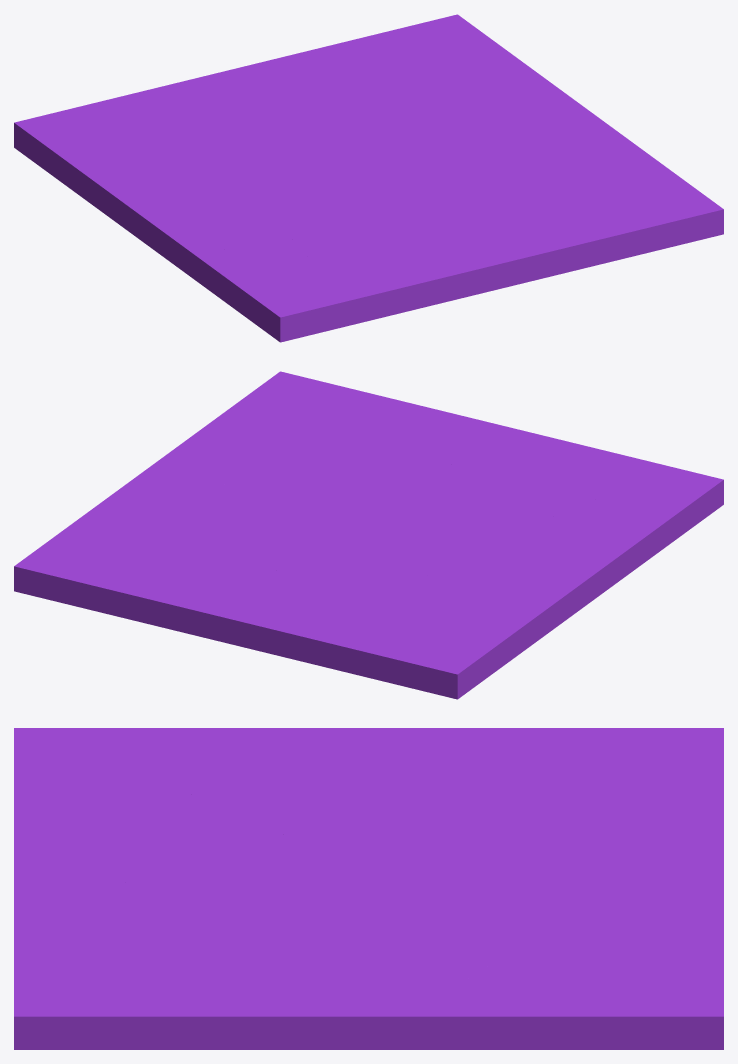
File: Window_180_chunks.fbx
3 renders of one model, top to bottom at view 1: azimuth 30°, elevation 25°; view 2: azimuth 150°, elevation 25°; view 3: azimuth 270°, elevation 25°, orthographic. The views are drawn at different scales.
Parts seen in each view (by area): view 1: Window_180_5, Window_180_15, Window_180_26, Window_180_35, Window_180_24, Window_180_7, Window_180_28, Window_180_11, Window_180_34, Window_180_4, Window_180_14, Window_180_12 (+25 smaller); view 2: Window_180_5, Window_180_15, Window_180_36, Window_180_41, Window_180_28, Window_180_7, Window_180_11, Window_180_40, Window_180_14, Window_180_4, Window_180_34, Window_180_35 (+24 smaller); view 3: Window_180_5, Window_180_21, Window_180_37, Window_180_4, Window_180_15, Window_180_7, Window_180_35, Window_180_11, Window_180_28, Window_180_36, Window_180_14, Window_180_34 (+27 smaller).
Boxes of the visible parts, <box> form: Window_180_5: <box>271,86,541,169</box>; Window_180_15: <box>14,84,172,169</box>; Window_180_26: <box>394,230,561,309</box>; Window_180_35: <box>573,190,723,251</box>; Window_180_24: <box>271,275,417,342</box>; Window_180_7: <box>74,153,258,207</box>; Window_180_28: <box>271,236,402,333</box>; Window_180_11: <box>234,171,349,256</box>; Window_180_34: <box>450,213,600,268</box>; Window_180_4: <box>457,97,618,144</box>; Window_180_14: <box>170,80,284,146</box>; Window_180_12: <box>69,125,254,163</box>; Window_180_5: <box>185,470,377,581</box>; Window_180_15: <box>301,615,497,699</box>; Window_180_36: <box>14,543,159,608</box>; Window_180_41: <box>85,565,211,631</box>; Window_180_28: <box>516,467,723,508</box>; Window_180_7: <box>436,546,540,637</box>; Window_180_11: <box>417,500,585,569</box>; Window_180_40: <box>179,590,309,651</box>; Window_180_14: <box>271,572,386,655</box>; Window_180_4: <box>132,447,237,524</box>; Window_180_34: <box>364,406,499,459</box>; Window_180_35: <box>255,371,376,431</box>; Window_180_5: <box>313,854,564,970</box>; Window_180_21: <box>47,958,304,1049</box>; Window_180_37: <box>409,982,701,1049</box>; Window_180_4: <box>291,960,496,1044</box>; Window_180_15: <box>605,728,723,829</box>; Window_180_7: <box>342,737,599,803</box>; Window_180_35: <box>14,940,139,1049</box>; Window_180_11: <box>162,781,441,844</box>; Window_180_28: <box>14,728,207,830</box>; Window_180_36: <box>593,947,723,1049</box>; Window_180_14: <box>498,804,723,856</box>; Window_180_34: <box>14,867,131,944</box>.
Bounding box in the file's own units: 1129 × 60.81 × 1174.
